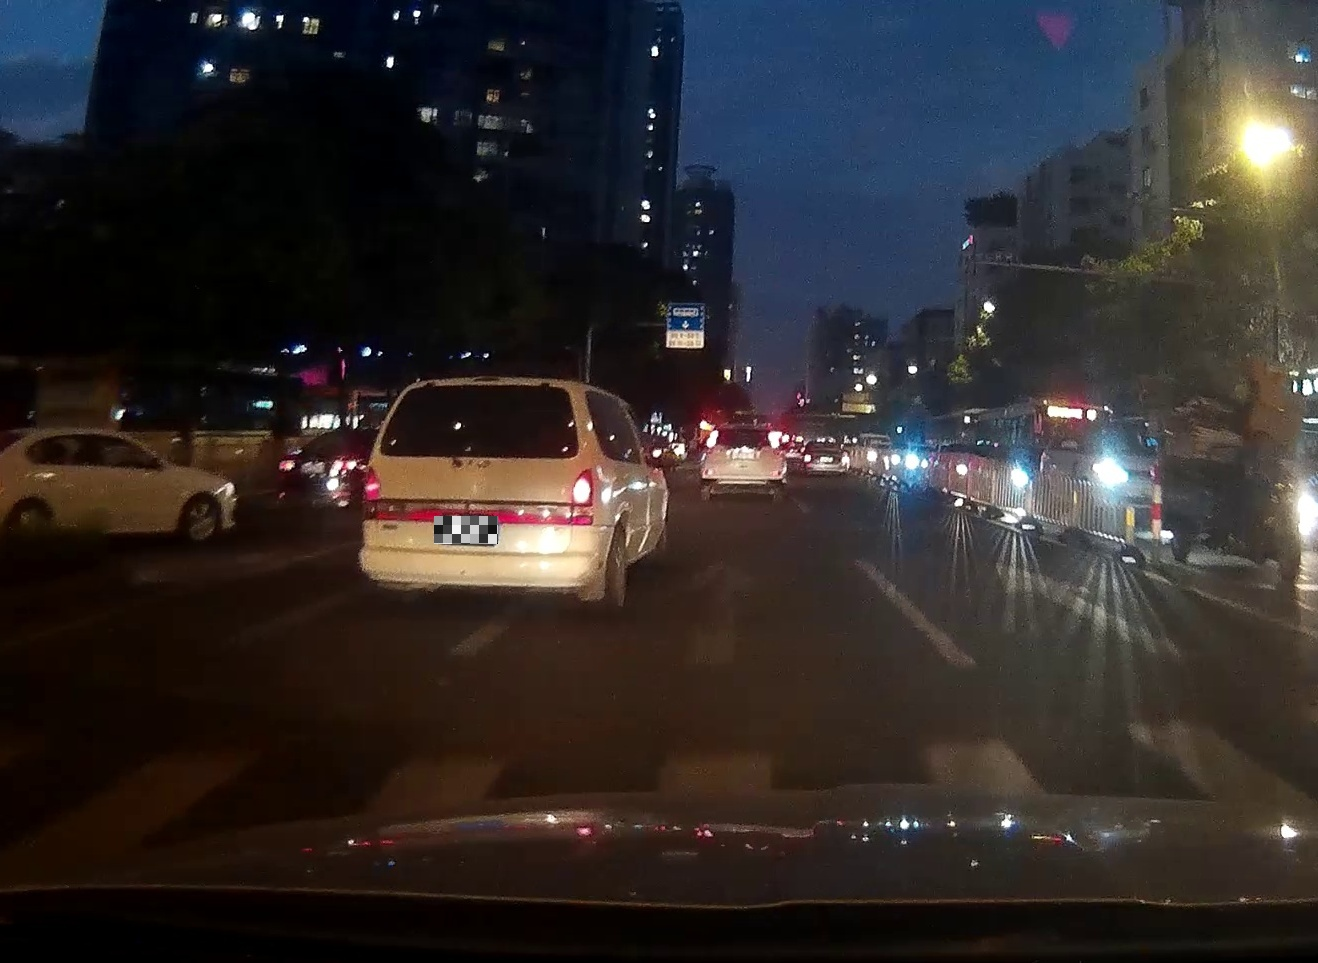L_light: (361, 466, 380, 519), (706, 430, 719, 448)
R_light: (568, 467, 595, 527), (768, 430, 780, 448)
T_light: (468, 384, 502, 394), (737, 428, 750, 432)
night-no: (699, 423, 786, 505)
night-right: (358, 375, 605, 612)
plate_1: (434, 516, 498, 544)
